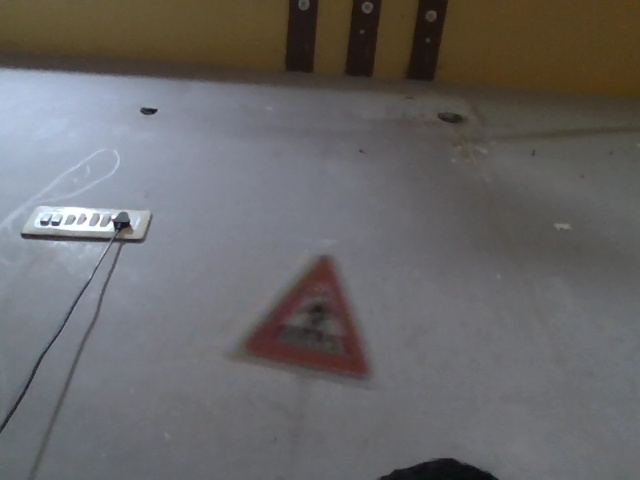crossing: (223, 244, 353, 374)
